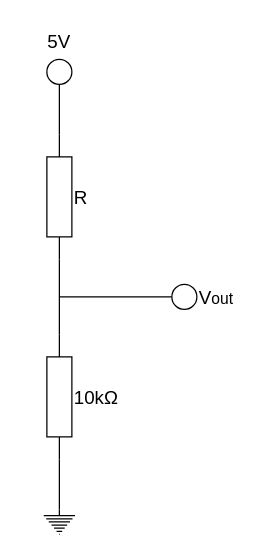
Some shapes in this 254 by 556 pixel diagram are drawn without their labels. The centre of each missing label's shape, as x and y in pixels:
GND: [58,521]
V in: [59,71]
